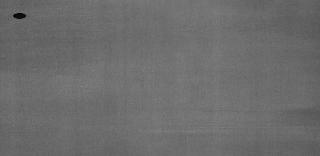punching hole: (10, 11, 28, 21)
